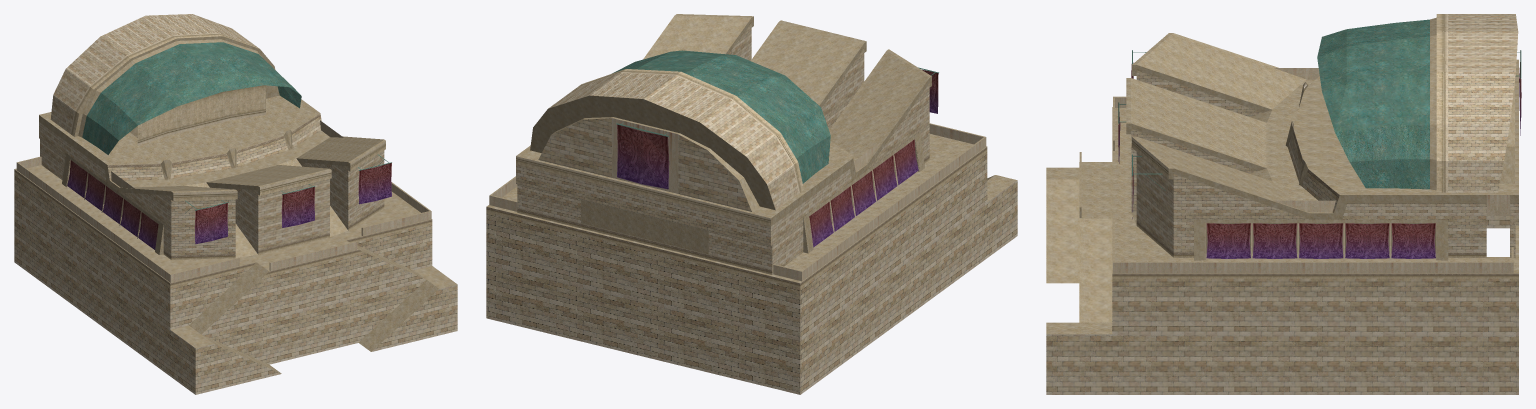
The model's file is ply_nboo_theater_s01_r0_exterior_mesh_l1.fbx.
3 views of the same model, side by side, from view 1: azimuth 30°, elevation 25°; view 2: azimuth 150°, elevation 25°; view 3: azimuth 270°, elevation 25° (orthographic). The views are drawn at different scales.
Parts seen in each view (by area): view 1: mesh_node; view 2: mesh_node; view 3: mesh_node.
Part boxes in pixels (x1,y1,x2,y2): mesh_node: [14, 14, 457, 394]; mesh_node: [486, 14, 1017, 394]; mesh_node: [1046, 14, 1521, 394].
Size of the model in its own units: 25.6 by 20.05 by 30.84.
